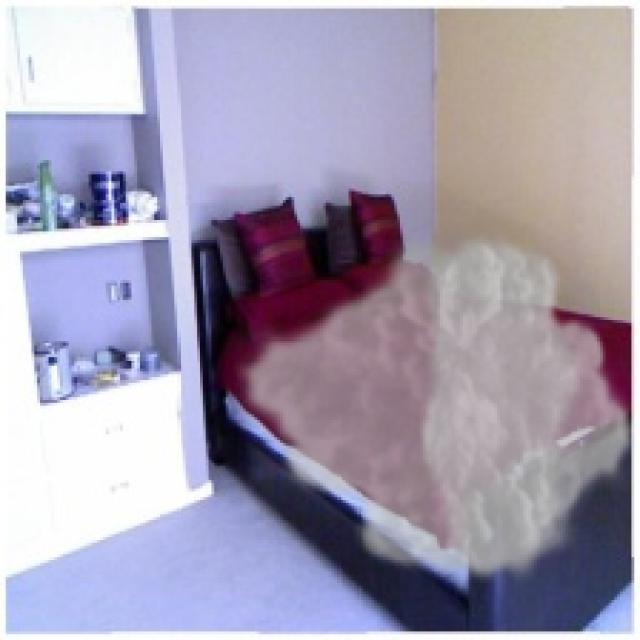smoke: (234, 226, 637, 588)
